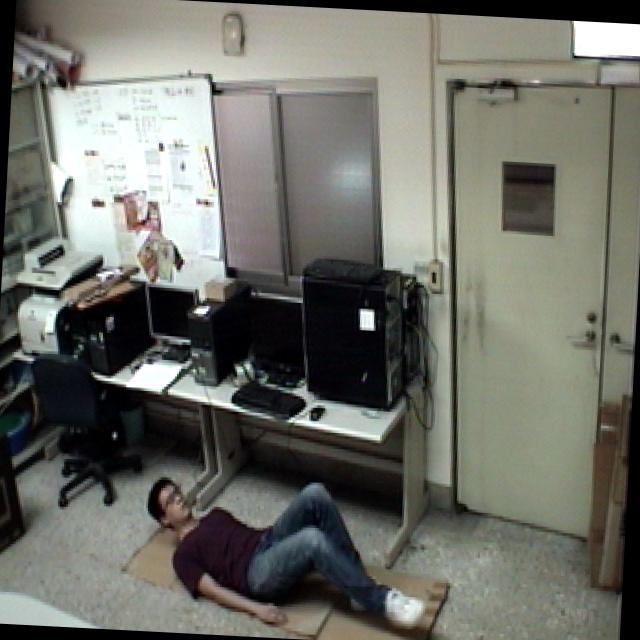lie: (137, 463, 436, 640)
